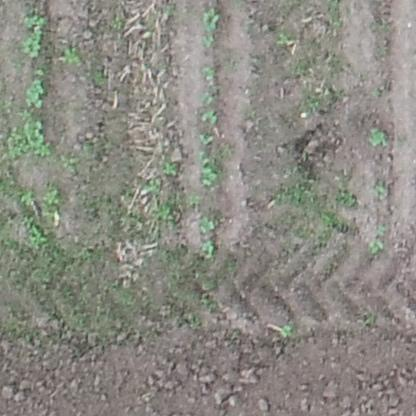vc: (23, 119, 49, 149), (26, 76, 46, 109), (200, 5, 224, 30), (21, 31, 44, 57), (368, 125, 389, 150), (202, 163, 221, 188), (22, 13, 48, 28), (201, 109, 221, 128), (197, 215, 215, 235), (197, 131, 217, 147), (199, 239, 215, 258), (369, 237, 384, 256), (279, 322, 296, 338)
